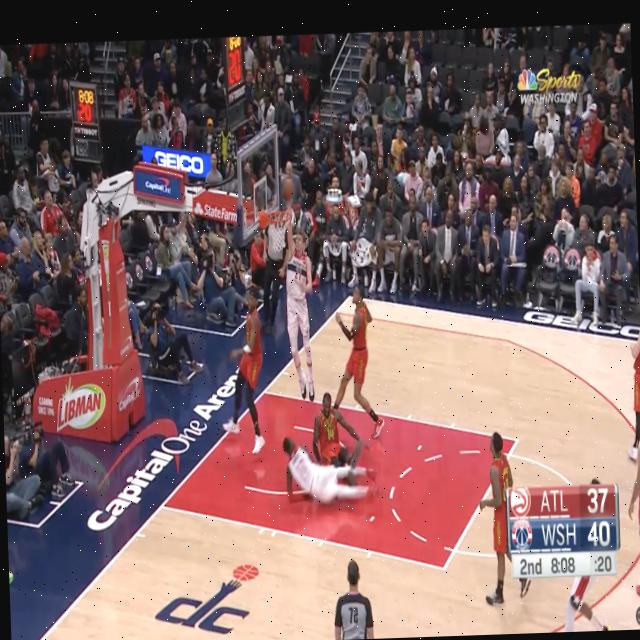foul: (271, 278, 398, 529)
